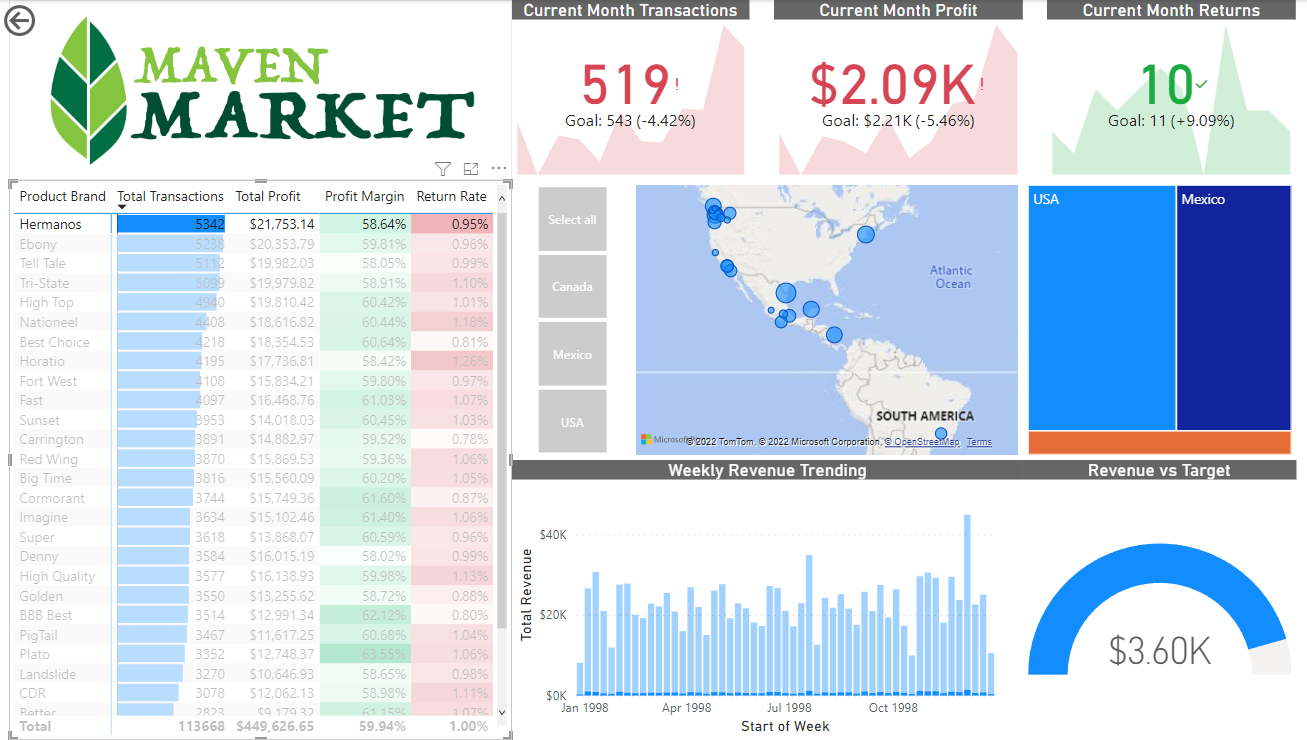

This screenshot's page, from the dashboard's own definition file:
{"tool":"powerbi","page":{"name":"Topline Performance","canvas":[1280,720],"ordinal":0},"visuals":[{"type":"image","box":[9.7,0,489.2,175.1],"z":0},{"type":"pivotTable","fields":{"Rows":["DimProduct.product_brand"],"Values":["FactTransaction.Total Transactions","FactTransaction.Total Profit","FactTransaction.Profit Margin","FactReturn.Return Rate"]},"box":[9.7,175.1,489.2,544.7],"z":1000},{"type":"kpi","title":"Current Month Transactions","fields":{"Indicator":["FactTransaction.Total Transactions"],"TrendLine":["DimCalendar.Start of Month"],"Goal":["FactTransaction.Last Month Transactions"]},"box":[499,0,230.5,175.1],"z":2000},{"type":"kpi","title":"Current Month Profit","fields":{"TrendLine":["DimCalendar.Start of Month"],"Indicator":["FactTransaction.Total Profit"],"Goal":["FactTransaction.Last Month Profit"]},"box":[753.3,0,242.2,175.1],"z":3000},{"type":"kpi","title":"Current Month Returns","fields":{"TrendLine":["DimCalendar.Start of Month"],"Indicator":["FactReturn.Total Returns"],"Goal":["FactReturn.Last Month Returns"]},"box":[1019.3,0,242.2,175.1],"z":4000},{"type":"map","fields":{"Category":["DimStore.store_city"],"Size":["FactTransaction.Total Transactions"]},"box":[614.7,175.1,381.3,272.3],"z":5000},{"type":"slicer","fields":{"Values":["DimStore.store_country"]},"box":[499,175.1,115.7,272.3],"z":6000},{"type":"treemap","fields":{"Group":["DimStore.store_country","DimStore.store_state","DimStore.store_city"],"Values":["FactTransaction.Total Transactions"]},"box":[996,175.1,265.5,272.3],"z":7000},{"type":"actionButton","box":[0,0,100,40],"z":8000},{"type":"columnChart","title":"Weekly Revenue Trending","fields":{"Y":["FactTransaction.Total Revenue"],"Category":["DimCalendar.Start of Week"]},"box":[499,447.4,497,272.3],"z":9000},{"type":"gauge","title":"Revenue vs Target","fields":{"Y":["FactTransaction.Total Revenue"],"MaxValue":["FactTransaction.Revenue Target"]},"box":[996,447.4,265.5,271.4],"z":10000}]}

Visuals, with their boxes on the page's 1280x720 design canvas (x1, y1, x2, y2). These are canvas units, not pixel positions in the 1307x740 screenshot, which may show the page scaled, cropped or inside an application window:
image: 10/0/499/175
pivotTable - DimProduct.product_brand x FactTransaction.Total Transactions: 10/175/499/720
"Current Month Transactions" kpi: 499/0/730/175
"Current Month Profit" kpi: 753/0/996/175
"Current Month Returns" kpi: 1019/0/1262/175
map - DimStore.store_city x FactTransaction.Total Transactions: 615/175/996/447
slicer - DimStore.store_country: 499/175/615/447
treemap - DimStore.store_country x DimStore.store_state: 996/175/1262/447
actionButton: 0/0/100/40
"Weekly Revenue Trending" columnChart: 499/447/996/720
"Revenue vs Target" gauge: 996/447/1262/719
